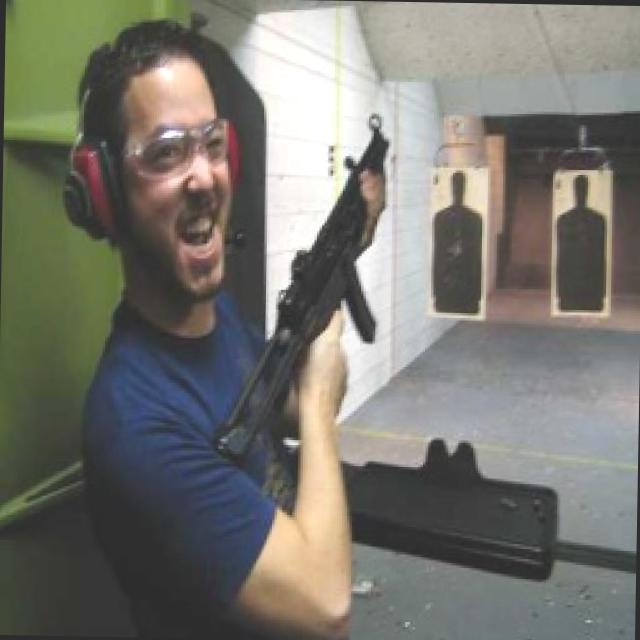long weapon: (228, 87, 434, 547)
